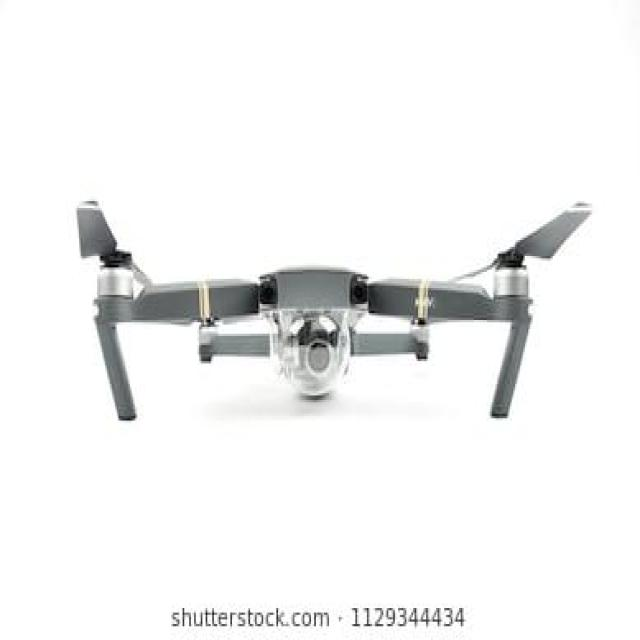drone: (67, 140, 603, 440)
